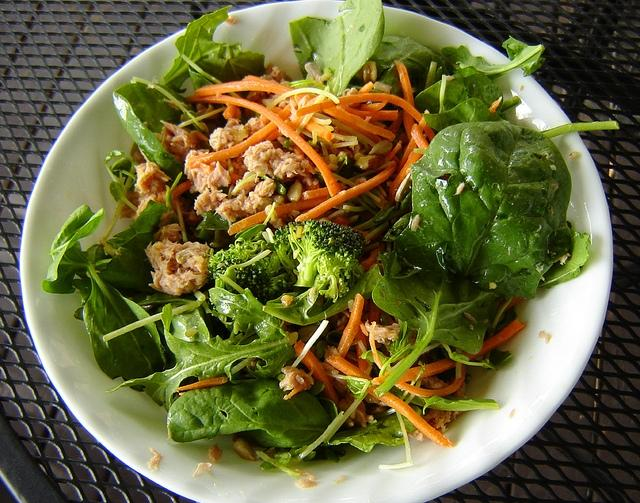broccoli: (284, 220, 366, 288), (234, 252, 302, 306)
carrot: (186, 94, 342, 197), (194, 80, 396, 142), (326, 354, 456, 448), (372, 318, 526, 386), (188, 103, 291, 170), (295, 93, 435, 142), (294, 164, 396, 223), (227, 195, 328, 236), (294, 340, 340, 410), (394, 364, 466, 398), (388, 151, 424, 203), (337, 294, 365, 360), (394, 60, 416, 142), (334, 116, 382, 144), (288, 96, 320, 131), (341, 105, 398, 121), (172, 376, 228, 391), (302, 183, 348, 200), (397, 138, 417, 175), (304, 120, 334, 143), (360, 246, 382, 273), (411, 124, 429, 149), (240, 75, 282, 85), (294, 133, 306, 160), (488, 96, 502, 114), (358, 81, 374, 94), (332, 217, 349, 225), (371, 406, 388, 414), (327, 375, 335, 384), (364, 312, 371, 321), (365, 116, 372, 123)
